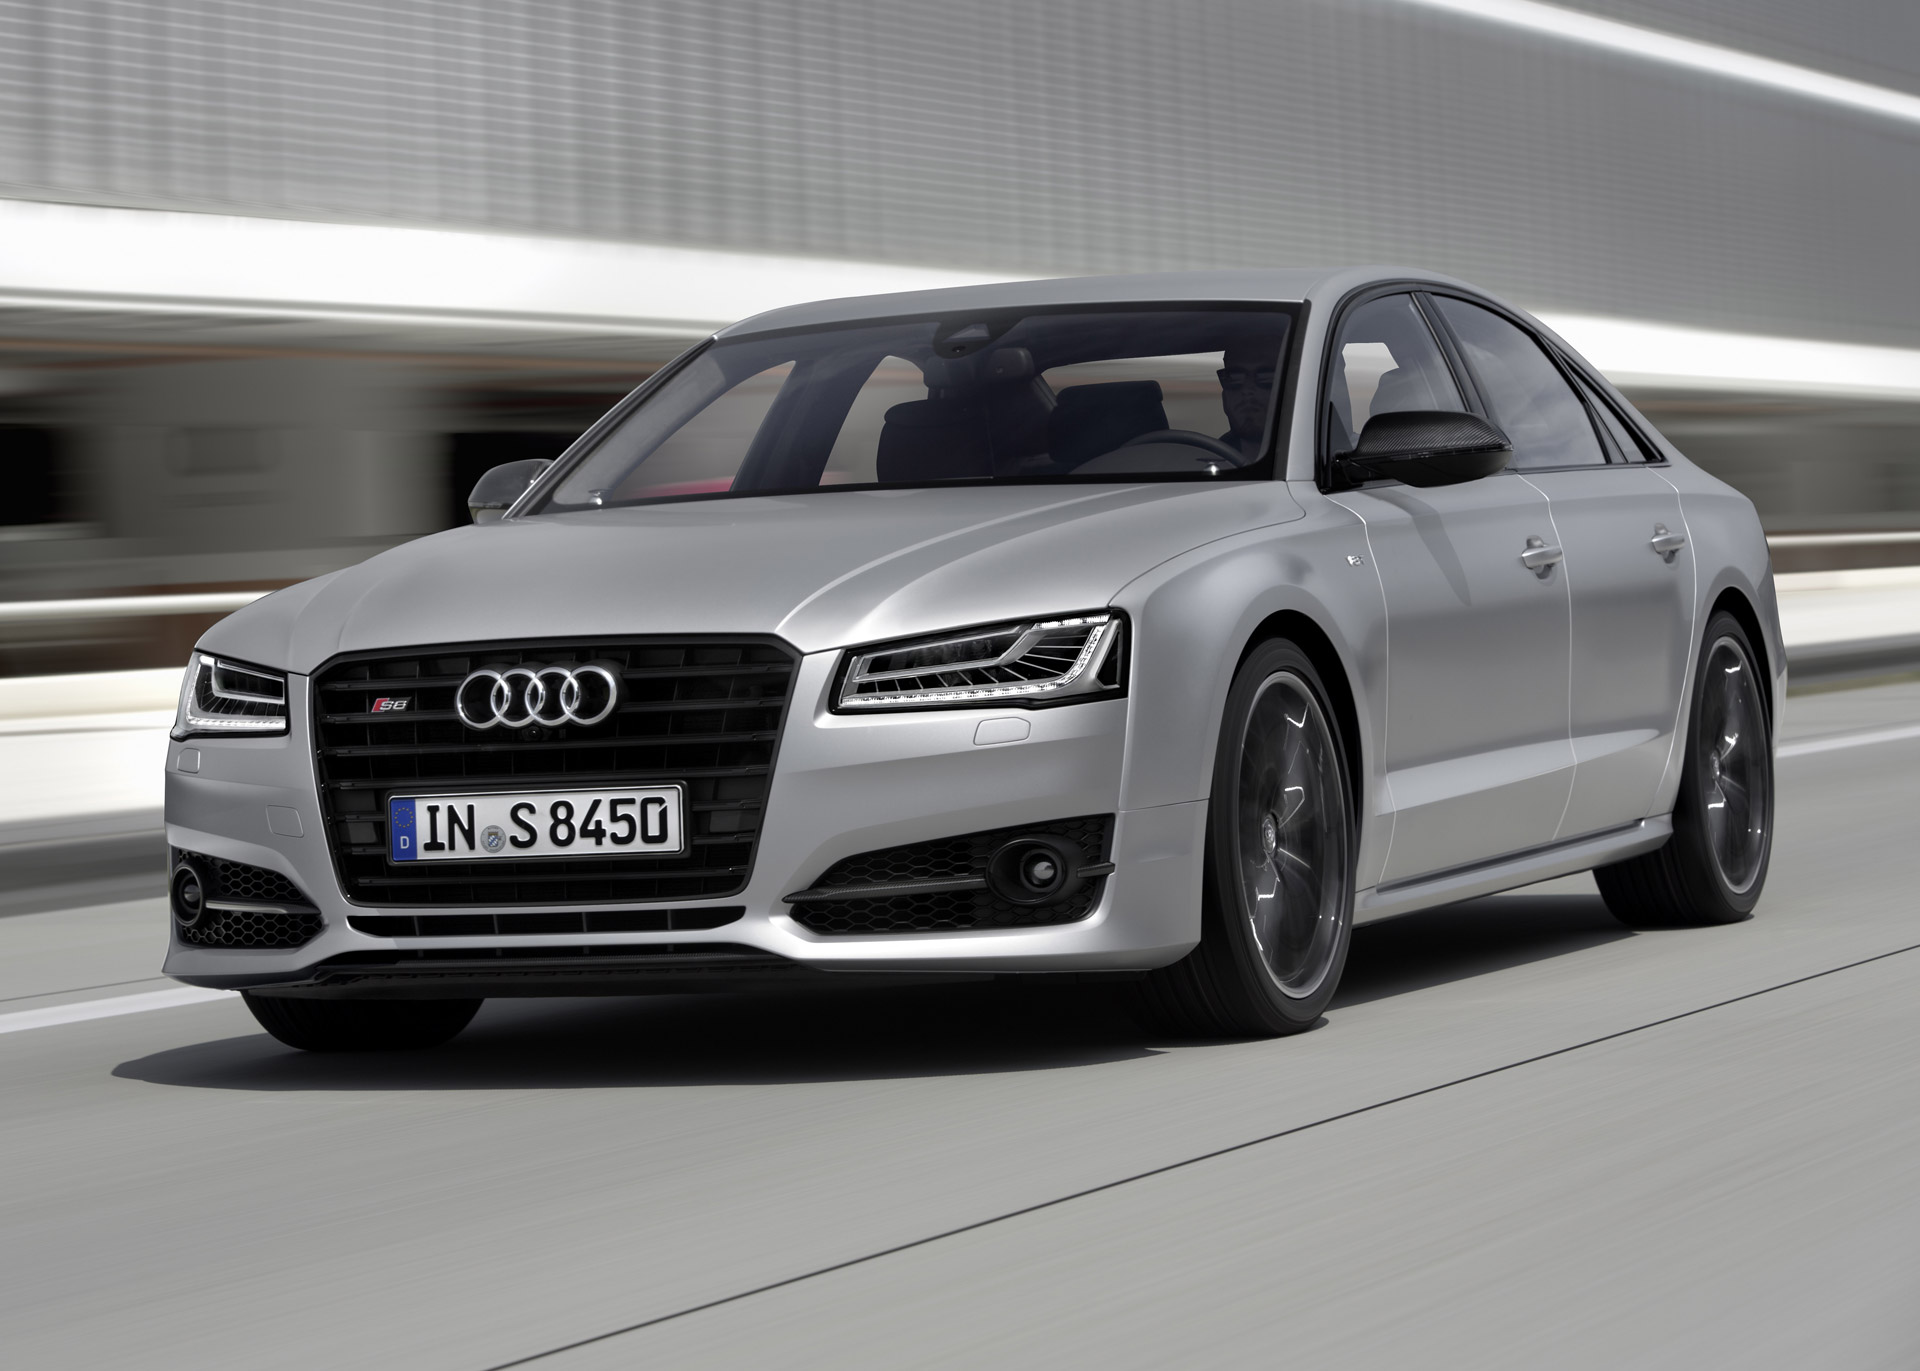plate: (386, 780, 691, 866)
